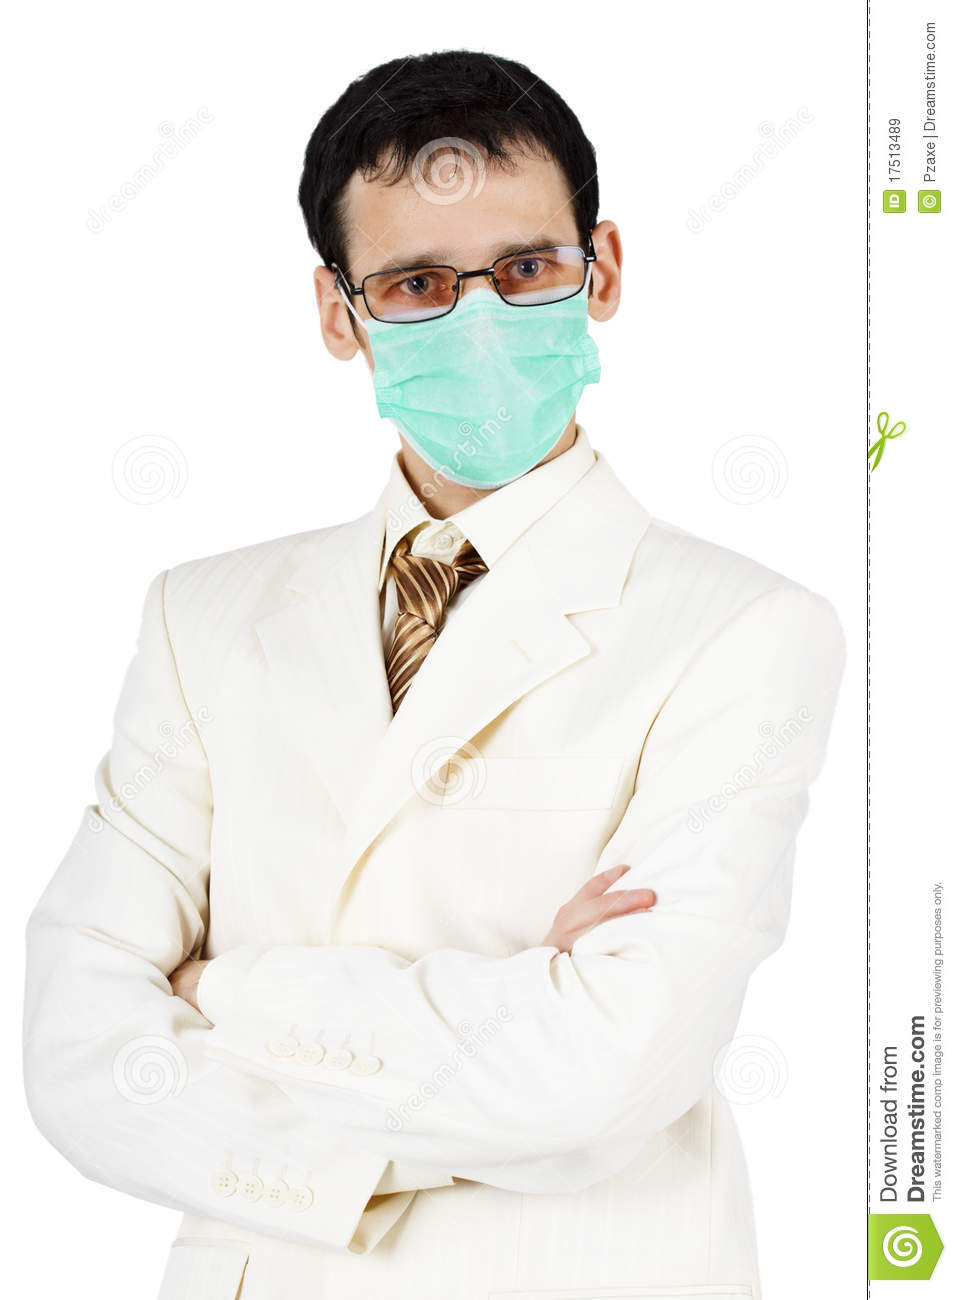mask: (365, 295, 596, 485)
